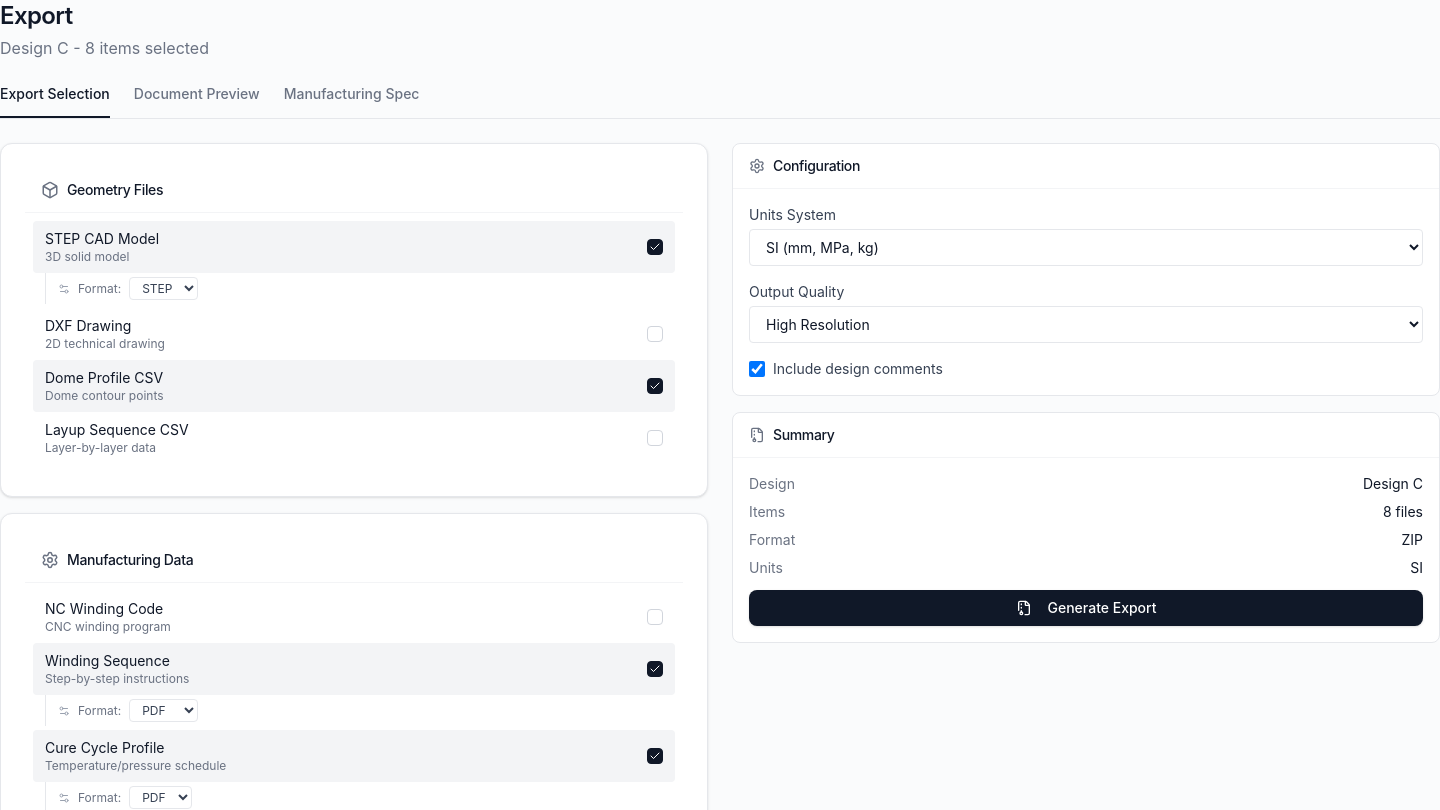
ExportScreen › Download Functionality › should show download button when export is ready
Click the button "Generate Export". click: (1086, 608)
box: [749,590,1423,626]
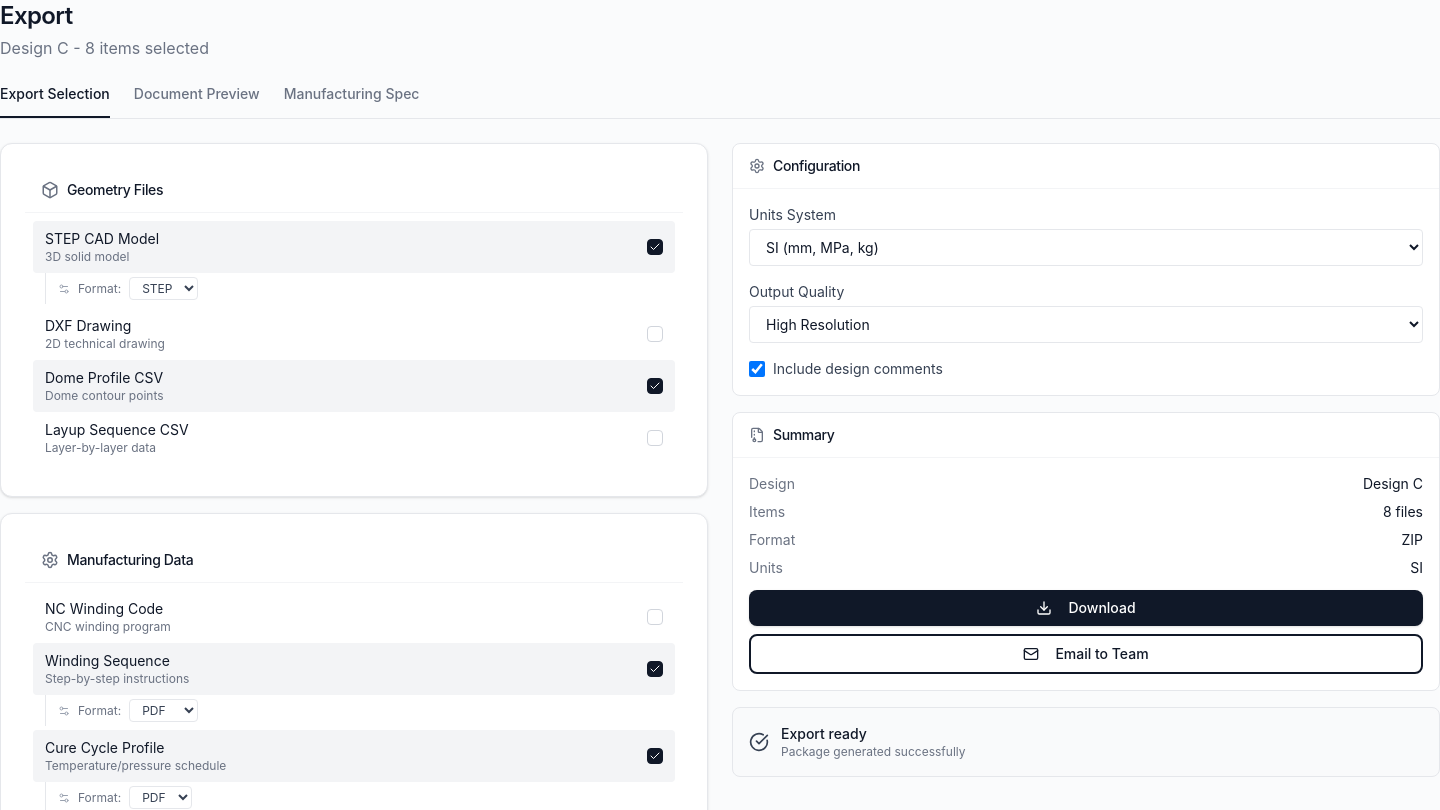
Check: the button "Download" is shown, box [749,590,1423,626]
